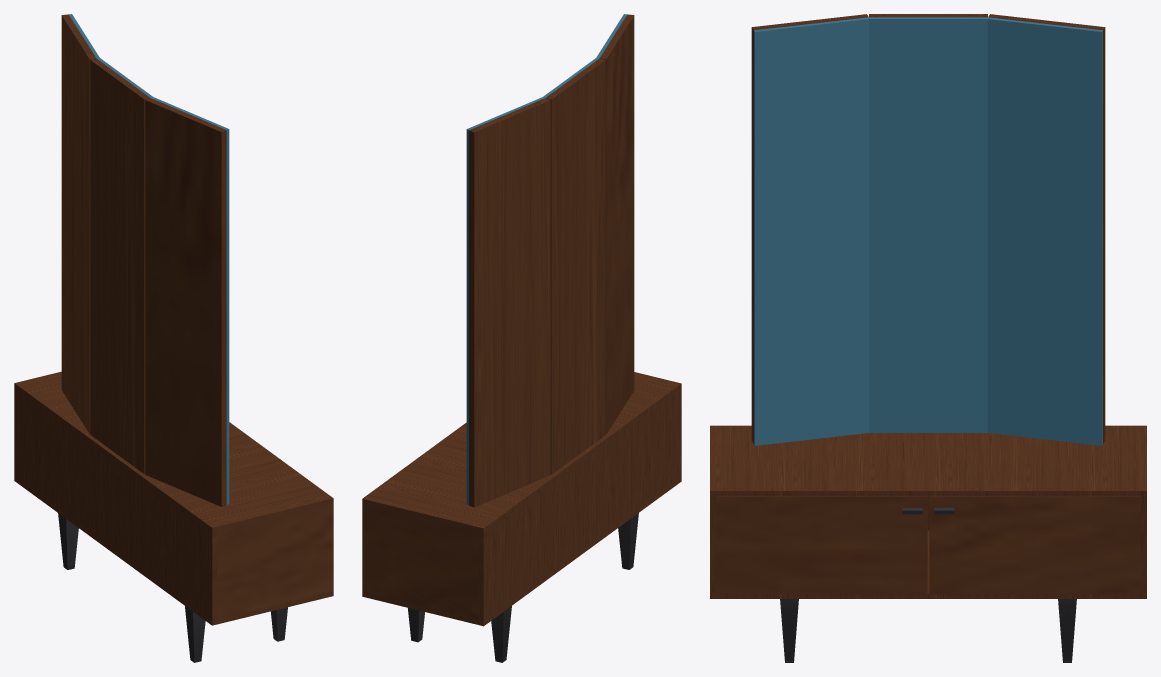
The model's file is Dresser.fbx.
The picture shows the model from 3 angles, left to right: view 1: azimuth 30°, elevation 25°; view 2: azimuth 150°, elevation 25°; view 3: azimuth 270°, elevation 25°; orthographic projection. The views are drawn at different scales.
Size of the model in its own units: 44.73 by 180 by 120.
Materials: 3 (3 with a texture image).
